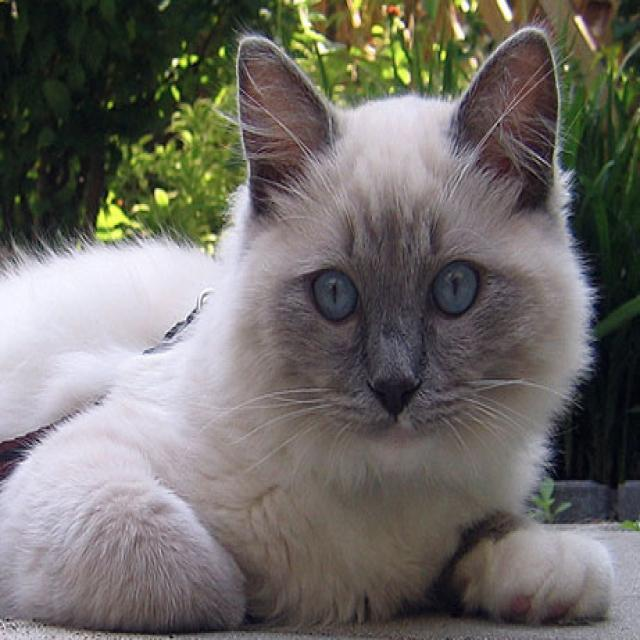Ragdoll: (235, 25, 557, 471)
